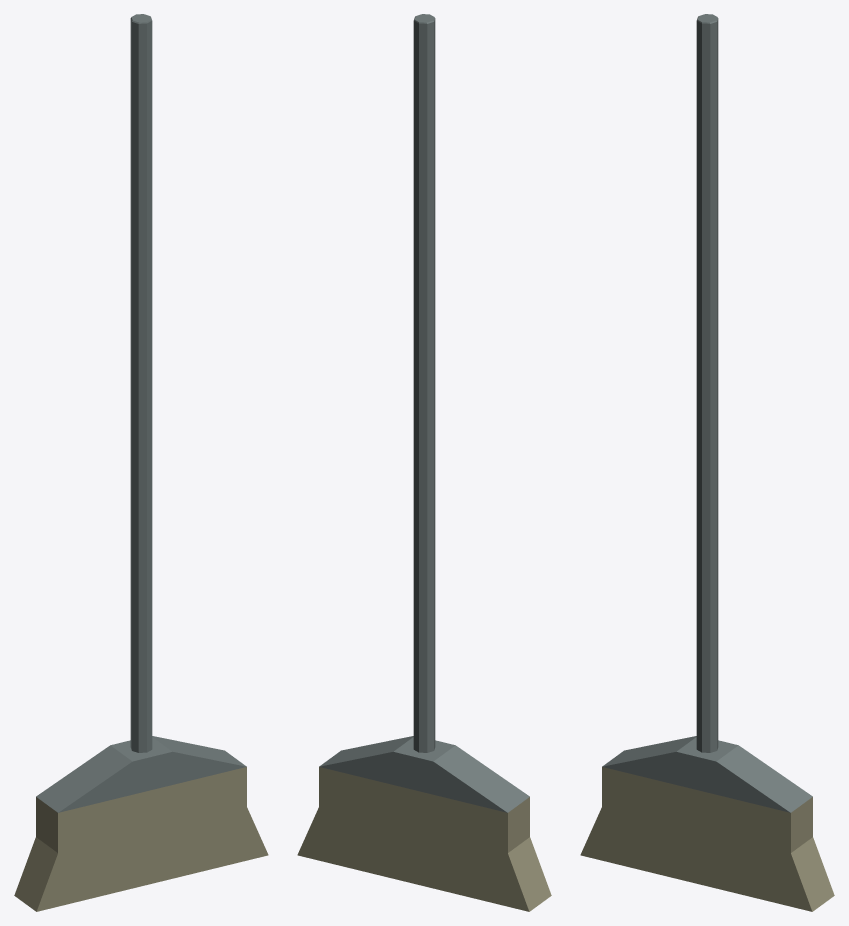
Rendered from Broom.fbx.
The picture shows the model from 3 angles, left to right: view 1: azimuth 30°, elevation 25°; view 2: azimuth 150°, elevation 25°; view 3: azimuth 330°, elevation 25°; orthographic projection.
Parts seen in each view (by area): view 1: Broom; view 2: Broom; view 3: Broom.
Boxes of the visible parts, x1,y1,x2,y2 form: Broom: [14, 14, 268, 911]; Broom: [297, 14, 551, 911]; Broom: [580, 14, 834, 911].
Bounding box in the file's own units: 44.83 × 158 × 7.44.
